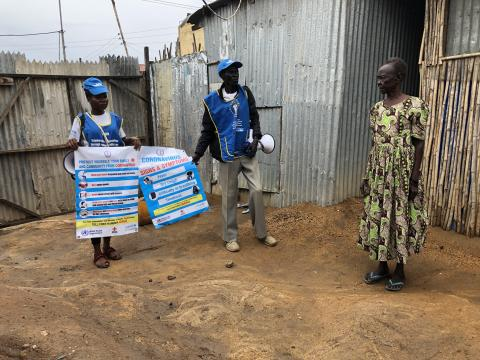Person: (192, 52, 299, 251), (347, 51, 432, 295), (60, 79, 149, 272)
